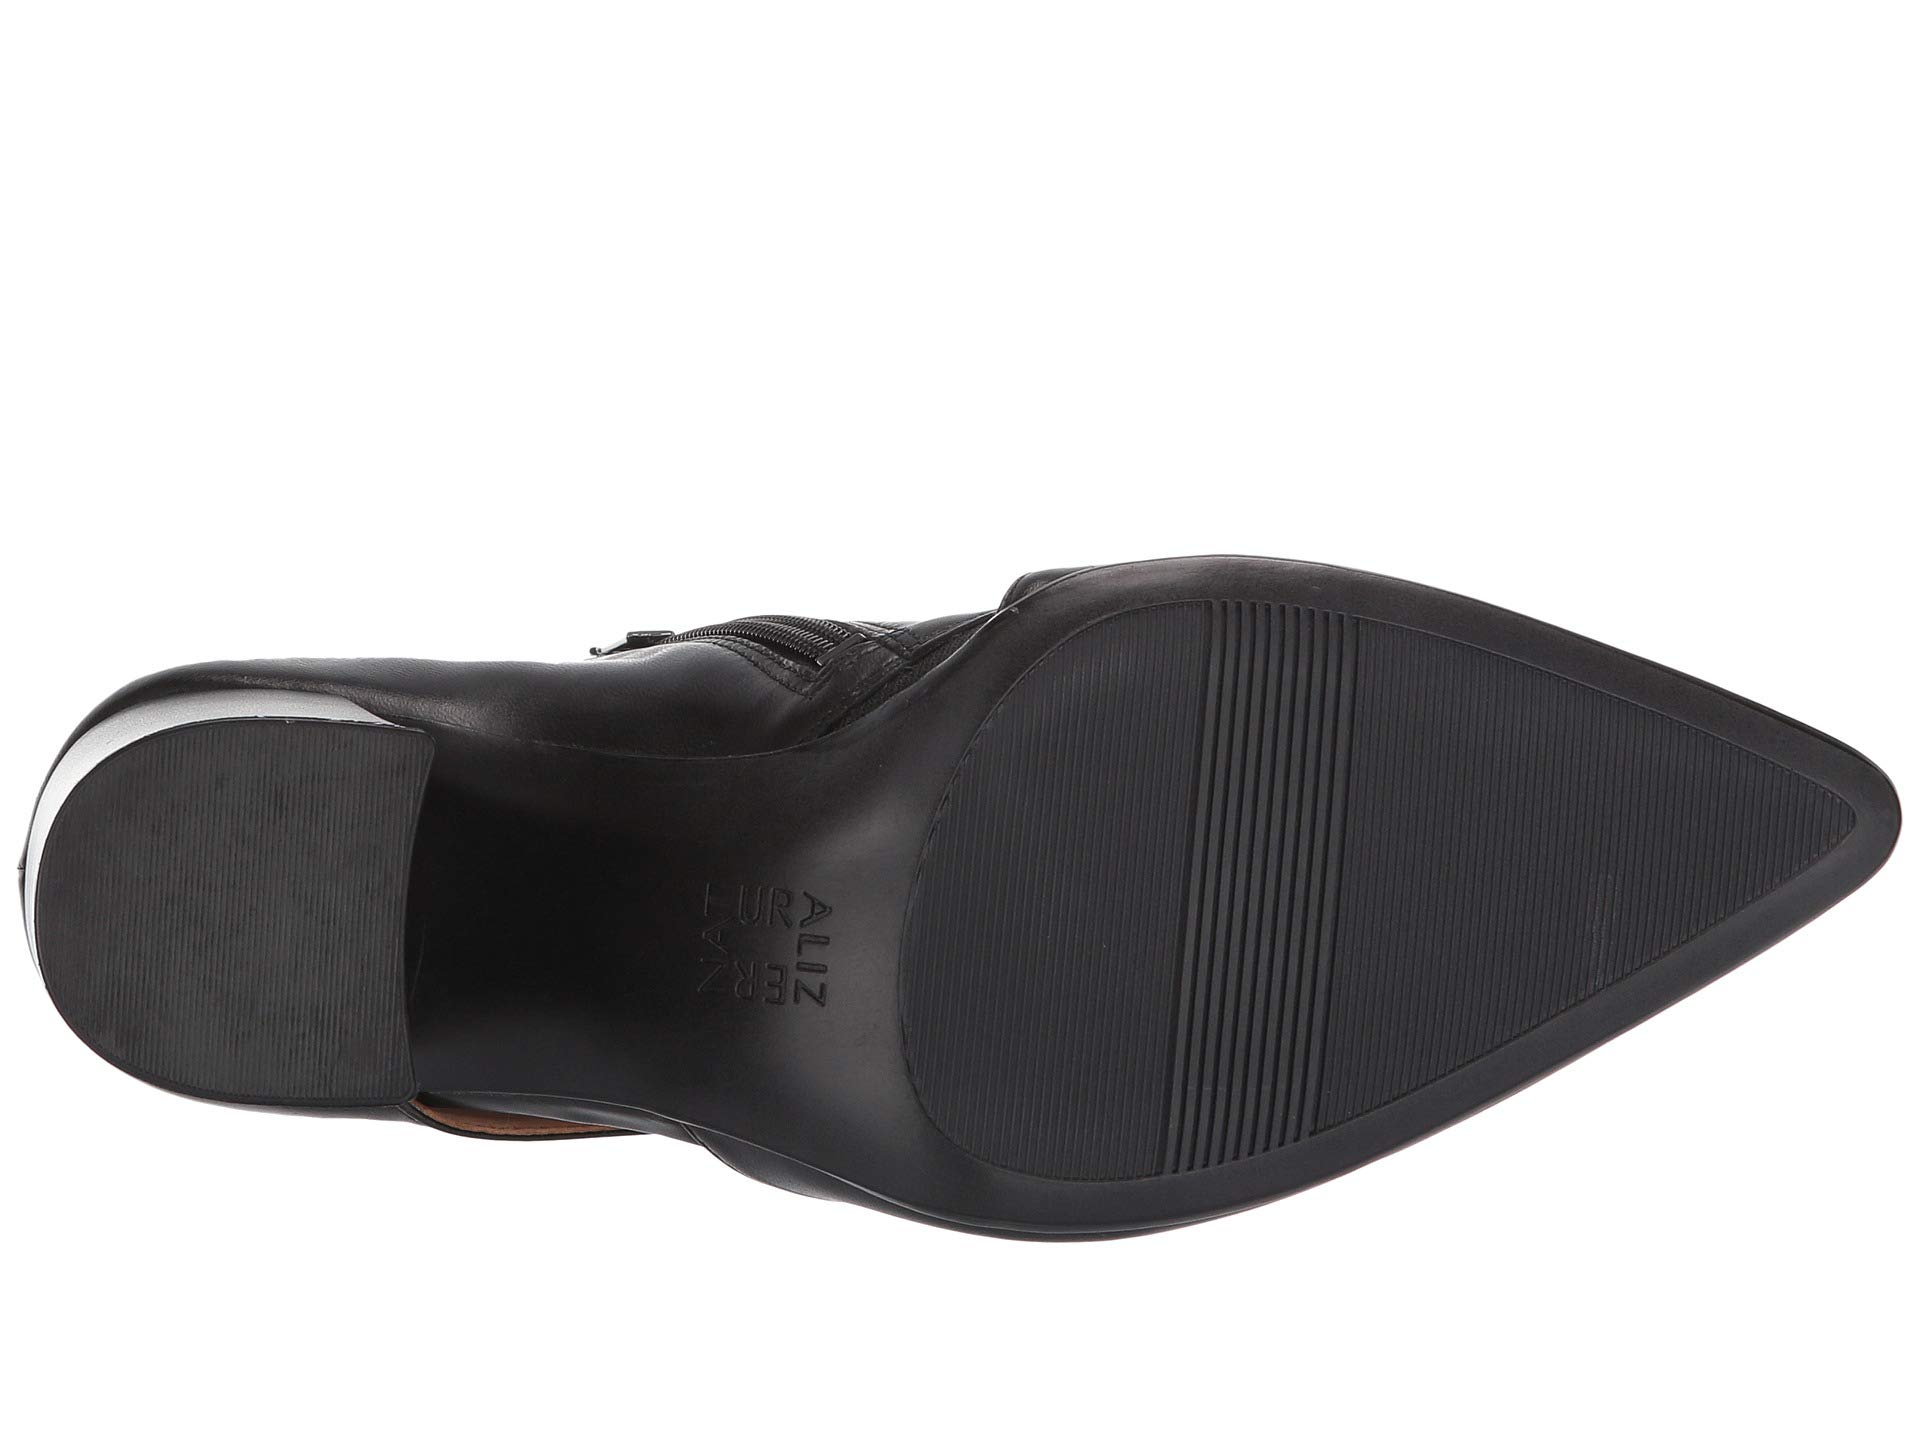line: (113, 762, 384, 1048), (1016, 694, 1175, 1128), (1197, 673, 1312, 1077), (1398, 723, 1538, 905), (1572, 722, 1683, 924), (1361, 954, 1510, 1035), (1704, 774, 1805, 883)
